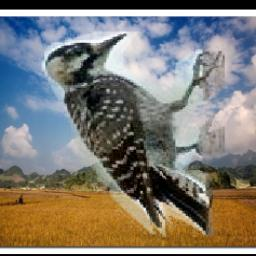Woodpecker: (39, 32, 225, 238)
